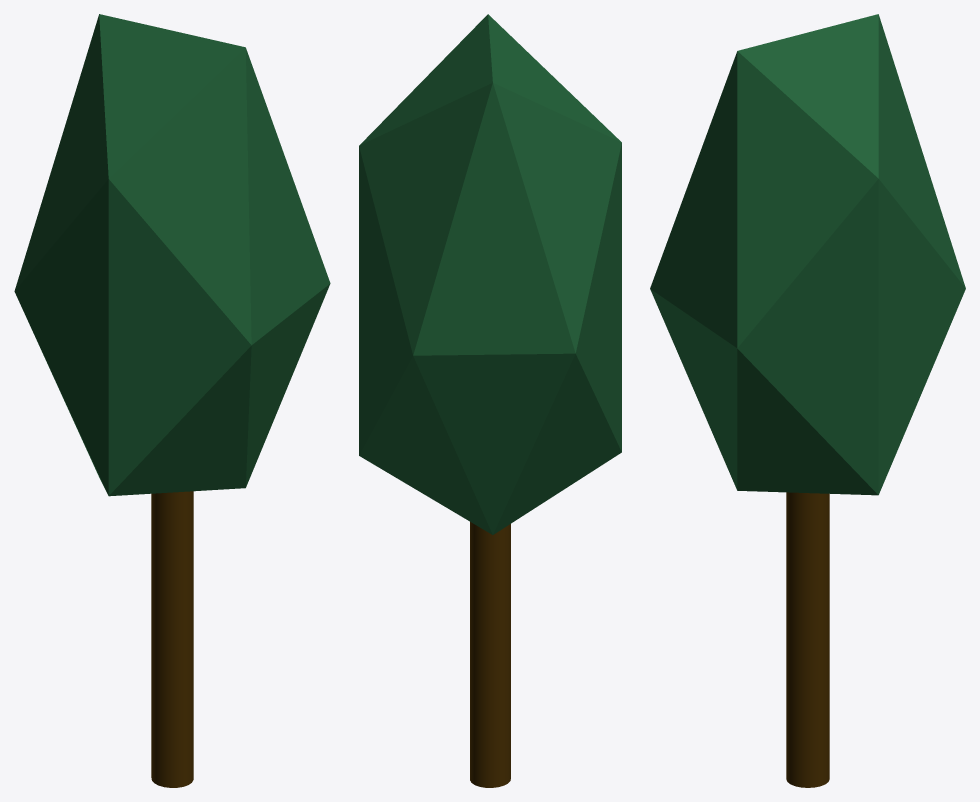
Rendered from Arbre base.fbx.
The picture shows the model from 3 angles, left to right: view 1: azimuth 30°, elevation 25°; view 2: azimuth 150°, elevation 25°; view 3: azimuth 270°, elevation 25°; orthographic projection. The views are drawn at different scales.
Parts seen in each view (by area): view 1: pPlatonic1, pCylinder1; view 2: pPlatonic1, pCylinder1; view 3: pPlatonic1, pCylinder1.
Boxes of the visible parts, left/top/right/bottom form: pPlatonic1: left=14, top=14, right=330, bottom=496; pCylinder1: left=151, top=491, right=193, bottom=787; pPlatonic1: left=359, top=14, right=621, bottom=534; pCylinder1: left=470, top=522, right=510, bottom=787; pPlatonic1: left=650, top=14, right=965, bottom=495; pCylinder1: left=786, top=492, right=829, bottom=787.
Size of the model in its own units: 1.79 by 5.22 by 2.
